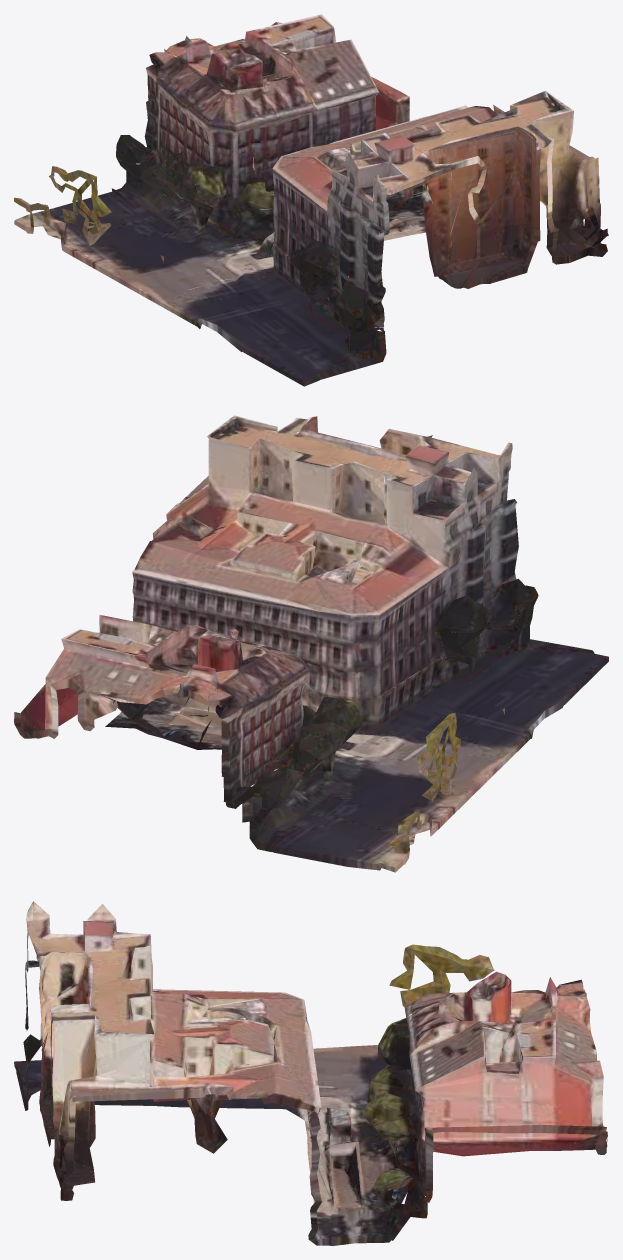
3 renders of one model, top to bottom at view 1: azimuth 30°, elevation 25°; view 2: azimuth 150°, elevation 25°; view 3: azimuth 270°, elevation 25°, orthographic. The views are drawn at different scales.
Visible parts, largest first — view 1: Mesh_0; view 2: Mesh_0; view 3: Mesh_0.
Boxes of the visible parts, x1=… form: Mesh_0: x1=14, y1=14, x2=608, y2=386; Mesh_0: x1=14, y1=415, x2=608, y2=872; Mesh_0: x1=14, y1=901, x2=607, y2=1245.
Size of the model in its own units: 67.55 by 36.26 by 82.7.
Materials: 2 (2 with a texture image).
